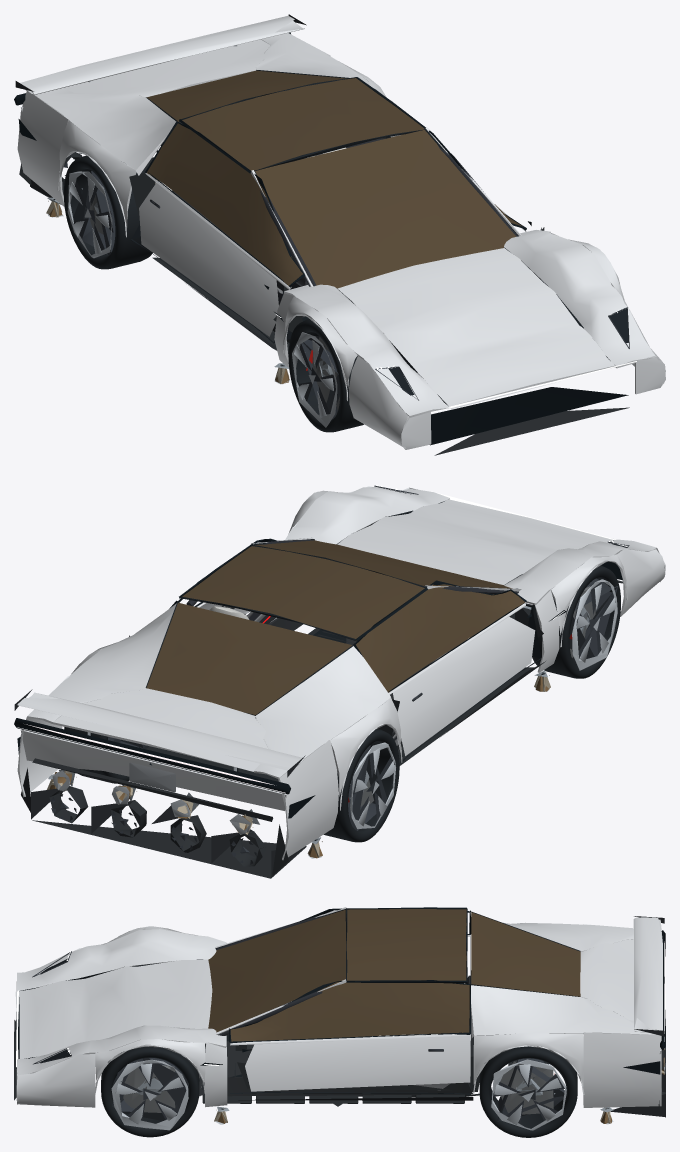
Rendered from tesla-roadster-2026.lod2.glb.
The picture shows the model from 3 angles, top to bottom: view 1: azimuth 30°, elevation 25°; view 2: azimuth 150°, elevation 25°; view 3: azimuth 270°, elevation 25°; orthographic projection. The views are drawn at different scales.
Parts seen in each view (by area): view 1: body:paint, body:glass, removable-roof:glass, body:carbon, butterfly-door-right:paint, butterfly-door-right:glass, active-rear-wing:paint, rear-right-steer-roll:rubber, rear-right-steer-roll:titanium, front-right-steer-roll:titanium, front-right-steer-roll:rubber, removable-roof:carbon (+1 smaller); view 2: body:paint, body:carbon, body:glass, removable-roof:glass, butterfly-door-right:paint, butterfly-door-right:glass, active-rear-wing:paint, front-right-steer-roll:titanium, body:titanium, rear-right-steer-roll:titanium, rear-right-steer-roll:rubber, front-right-steer-roll:rubber (+4 smaller); view 3: body:paint, body:glass, butterfly-door-left:paint, butterfly-door-left:glass, removable-roof:glass, body:carbon, front-left-steer-roll:titanium, rear-left-steer-roll:titanium, rear-left-steer-roll:rubber, active-rear-wing:paint, front-left-steer-roll:rubber, body:white (+2 smaller).
Part boxes in pixels (<box>): body:paint: <box>17,33,665,449</box>; body:glass: <box>147,70,516,288</box>; removable-roof:glass: <box>182,78,424,170</box>; body:carbon: <box>14,32,629,455</box>; butterfly-door-right:paint: <box>130,121,304,343</box>; butterfly-door-right:glass: <box>147,123,302,285</box>; active-rear-wing:paint: <box>15,14,306,94</box>; rear-right-steer-roll:rubber: <box>63,155,152,269</box>; rear-right-steer-roll:titanium: <box>67,171,115,258</box>; front-right-steer-roll:titanium: <box>292,332,339,427</box>; front-right-steer-roll:rubber: <box>288,319,363,432</box>; removable-roof:carbon: <box>179,77,425,173</box>; body:paint: <box>17,486,665,860</box>; body:carbon: <box>14,485,629,878</box>; body:glass: <box>146,540,512,714</box>; removable-roof:glass: <box>182,546,424,640</box>; butterfly-door-right:paint: <box>353,580,541,763</box>; butterfly-door-right:glass: <box>356,584,525,692</box>; active-rear-wing:paint: <box>14,689,305,777</box>; front-right-steer-roll:titanium: <box>569,578,617,670</box>; body:titanium: <box>47,606,550,858</box>; rear-right-steer-roll:titanium: <box>348,742,395,830</box>; rear-right-steer-roll:rubber: <box>323,728,399,842</box>; front-right-steer-roll:rubber: <box>532,565,620,678</box>; body:paint: <box>15,907,661,1107</box>; body:glass: <box>208,910,580,1032</box>; butterfly-door-left:paint: <box>229,980,471,1094</box>; butterfly-door-left:glass: <box>230,982,469,1041</box>; removable-roof:glass: <box>346,909,466,980</box>; body:carbon: <box>14,908,665,1123</box>; front-left-steer-roll:titanium: <box>111,1058,188,1130</box>; rear-left-steer-roll:titanium: <box>491,1058,566,1130</box>; rear-left-steer-roll:rubber: <box>479,1048,577,1137</box>; active-rear-wing:paint: <box>633,916,664,1036</box>; front-left-steer-roll:rubber: <box>101,1046,199,1137</box>; body:white: <box>215,914,437,1037</box>.
Bounding box in the file's own units: 2.01 × 1.1 × 4.65.
